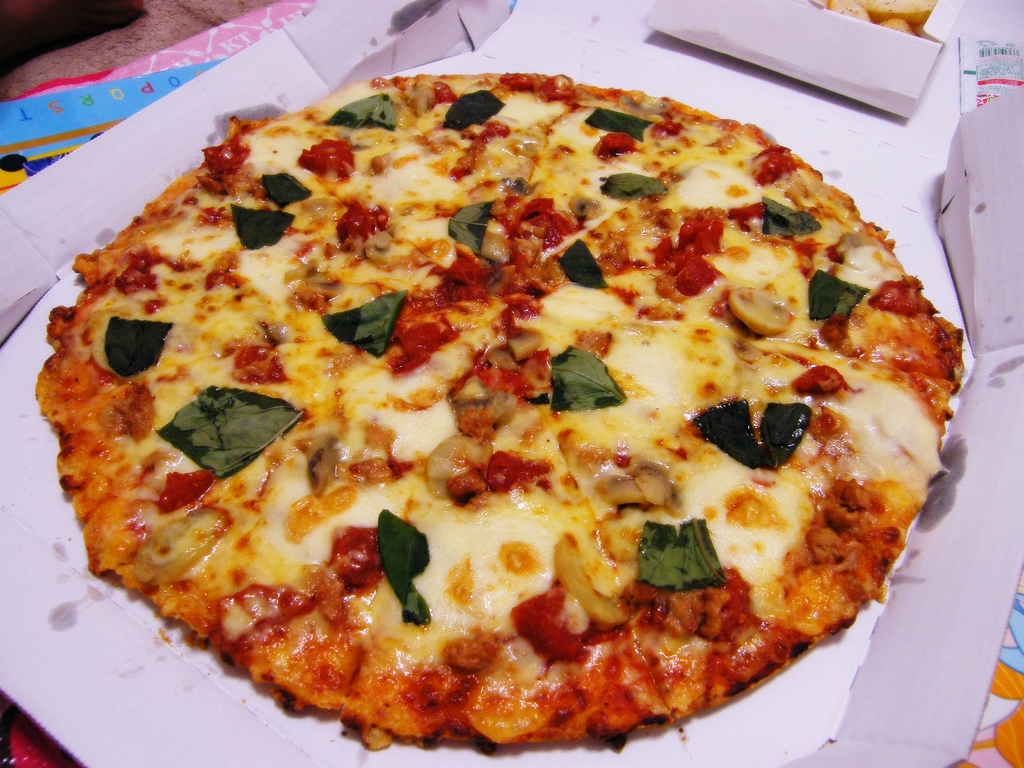Pizza: (32, 66, 959, 752)
